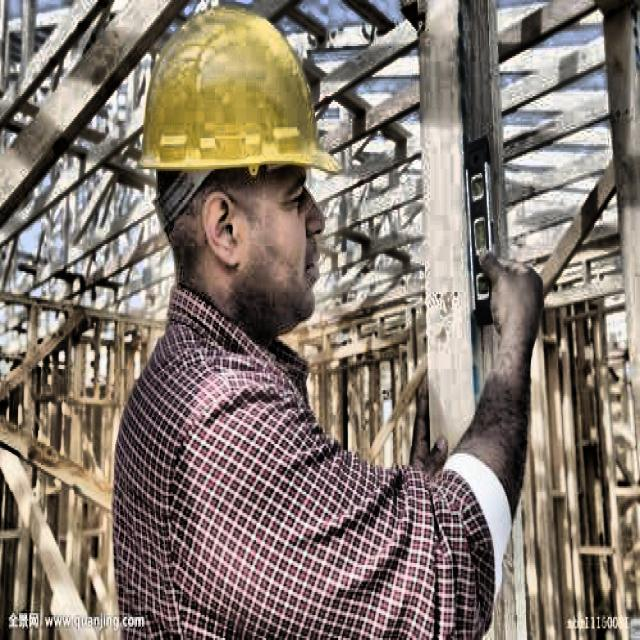helmet: (133, 10, 337, 336)
